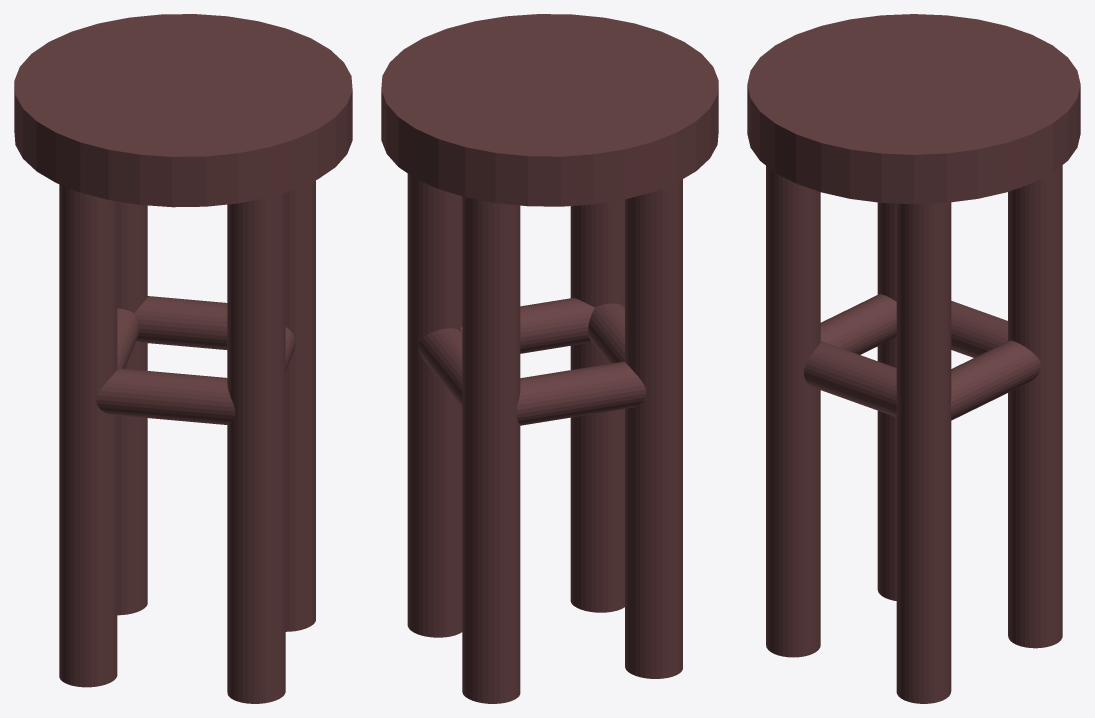
Rendered from stool.glb.
The picture shows the model from 3 angles, left to right: view 1: azimuth 30°, elevation 25°; view 2: azimuth 150°, elevation 25°; view 3: azimuth 270°, elevation 25°; orthographic projection.
Parts seen in each view (by area): view 1: Cylinder; view 2: Cylinder; view 3: Cylinder.
Part boxes in pixels (box(x1,y1,x2,y2)): Cylinder: box(14, 14, 352, 703); Cylinder: box(381, 14, 718, 703); Cylinder: box(747, 14, 1080, 703).
Bounding box in the file's own units: 2 × 3.68 × 2.
